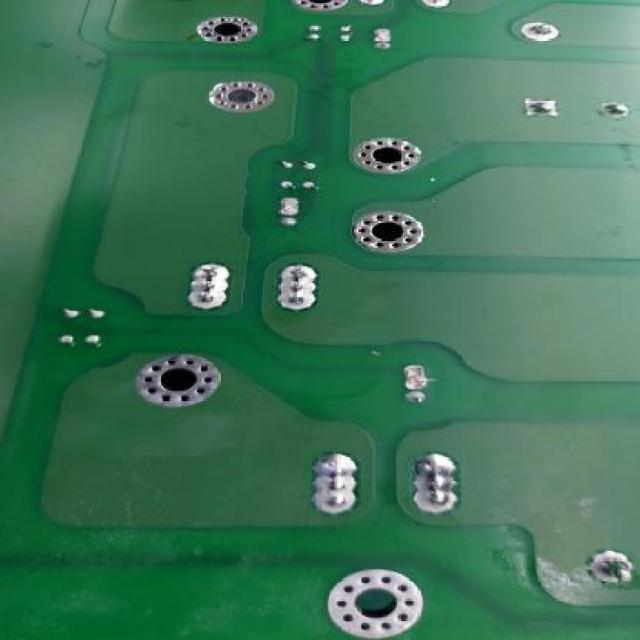Soldering shorted: (306, 448, 360, 521), (406, 444, 459, 516), (278, 260, 318, 316), (191, 259, 226, 310), (270, 190, 306, 216), (372, 24, 394, 41)
